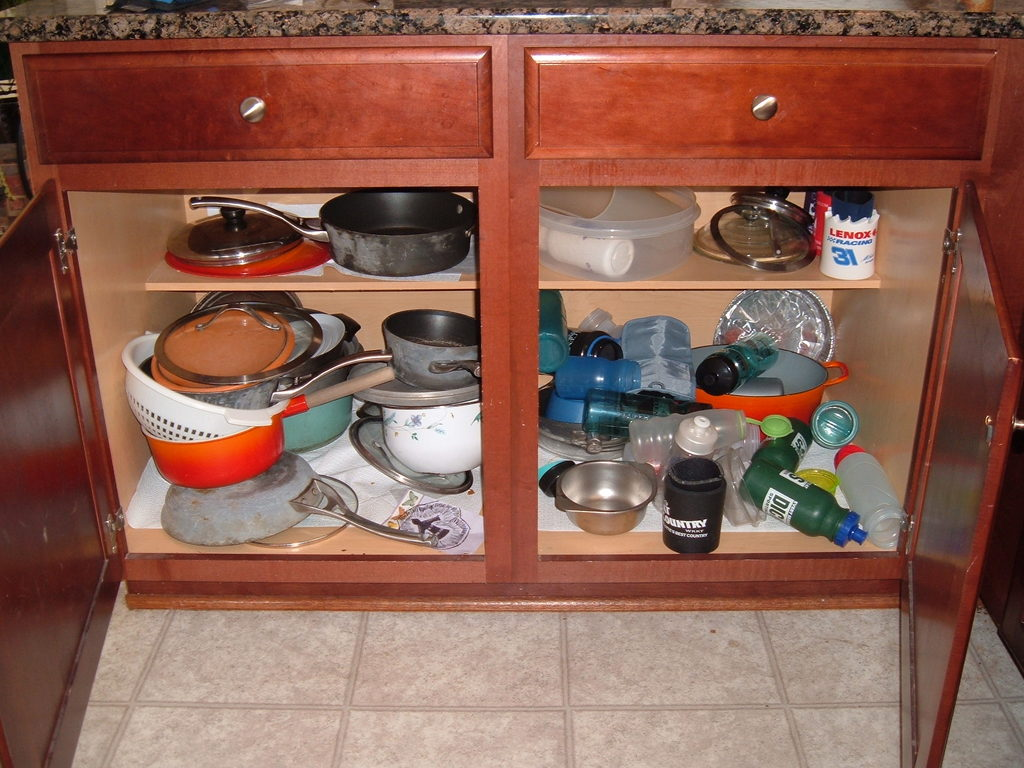cabinet door: (529, 54, 989, 160), (29, 55, 490, 154), (934, 222, 995, 768), (28, 207, 83, 763)
handle: (236, 93, 270, 131), (749, 89, 782, 127)
